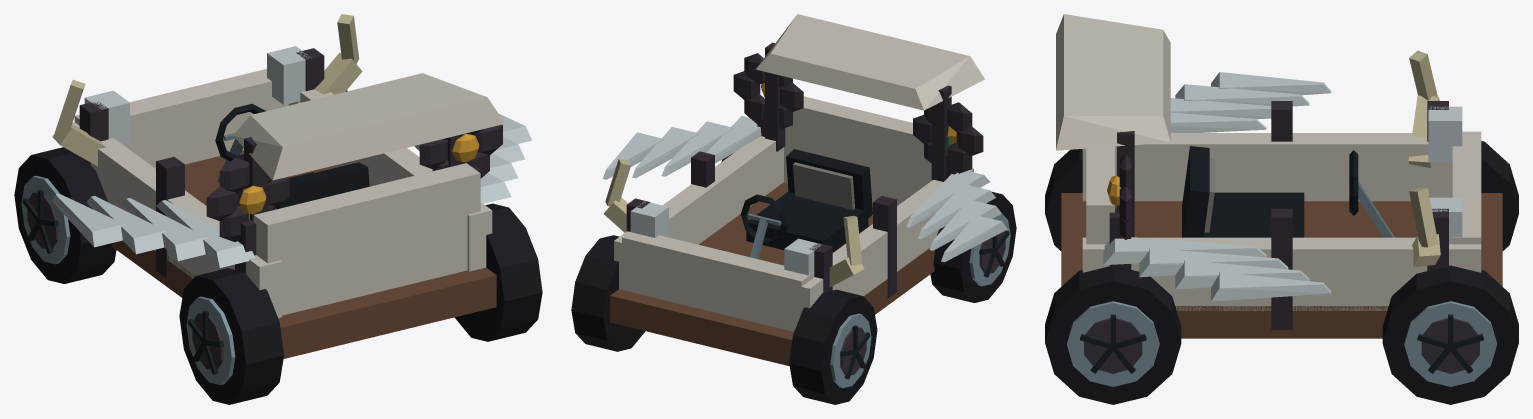
Rendered from kart.glb.
3 views of the same model, side by side, from view 1: azimuth 30°, elevation 25°; view 2: azimuth 150°, elevation 25°; view 3: azimuth 270°, elevation 25° (orthographic). The views are drawn at different scales.
Visible parts, largest first — view 1: identity-carriage-carriage-timber-coach, wheel-rear-left, identity-carriage-motif-wings-feather, wheel-front-left, wheel-rear-right, identity-carriage-motif-flowers, identity-carriage-motif-horns, identity-carriage-driver-cockpit; view 2: identity-carriage-carriage-timber-coach, identity-carriage-motif-wings-feather, identity-carriage-driver-cockpit, wheel-front-left, identity-carriage-motif-flowers, wheel-rear-left, wheel-front-right, identity-carriage-motif-horns; view 3: identity-carriage-carriage-timber-coach, wheel-front-right, wheel-rear-right, identity-carriage-motif-wings-feather, identity-carriage-driver-cockpit, identity-carriage-motif-horns, wheel-front-left, wheel-rear-left, identity-carriage-motif-flowers.
Boxes of the visible parts, <box> form: identity-carriage-carriage-timber-coach: <box>72,46,505,358</box>; wheel-rear-left: <box>179,268,283,404</box>; identity-carriage-motif-wings-feather: <box>51,114,531,267</box>; wheel-front-left: <box>14,147,116,283</box>; wheel-rear-right: <box>455,203,542,341</box>; identity-carriage-motif-flowers: <box>206,124,502,241</box>; identity-carriage-motif-horns: <box>52,14,362,166</box>; identity-carriage-driver-cockpit: <box>215,103,369,209</box>; identity-carriage-carriage-timber-coach: <box>610,14,984,366</box>; identity-carriage-motif-wings-feather: <box>602,116,1007,262</box>; identity-carriage-driver-cockpit: <box>741,149,872,259</box>; wheel-front-left: <box>789,289,877,404</box>; identity-carriage-motif-flowers: <box>733,53,983,173</box>; wheel-rear-left: <box>930,191,1016,302</box>; wheel-front-right: <box>571,235,645,351</box>; identity-carriage-motif-horns: <box>603,159,864,287</box>; identity-carriage-carriage-timber-coach: <box>1056,14,1502,338</box>; wheel-front-right: <box>1382,265,1518,404</box>; wheel-rear-right: <box>1045,266,1181,404</box>; identity-carriage-motif-wings-feather: <box>1103,72,1331,301</box>; identity-carriage-driver-cockpit: <box>1182,146,1394,237</box>; identity-carriage-motif-horns: <box>1408,50,1440,267</box>; wheel-front-left: <box>1481,141,1518,250</box>; wheel-rear-left: <box>1045,149,1082,250</box>; identity-carriage-motif-flowers: <box>1107,154,1131,239</box>.
Bounding box in the file's own units: 2.88 × 1.63 × 2.64.
